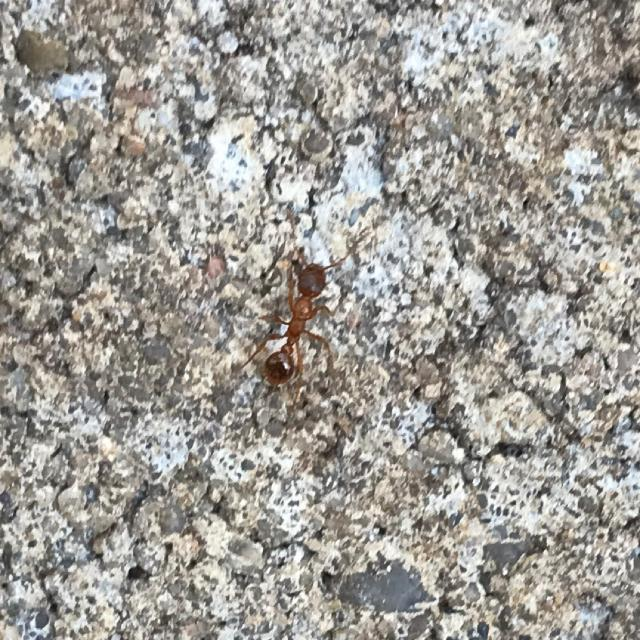Myrmica: (221, 216, 367, 406)
